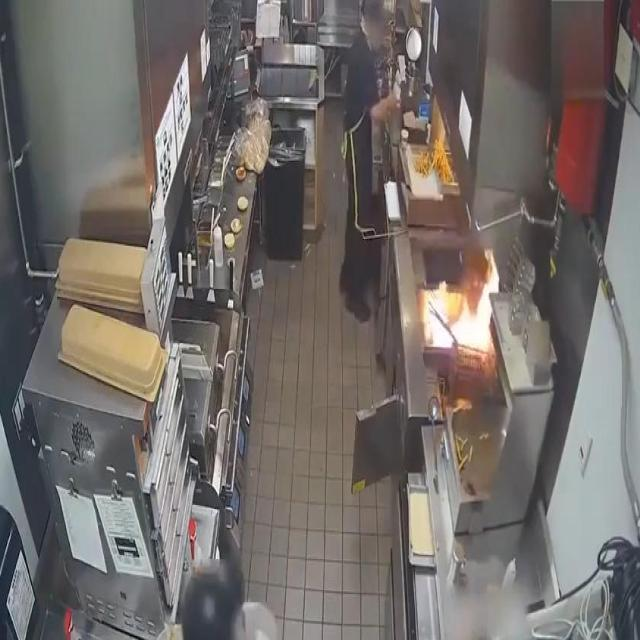smoke: (424, 247, 506, 363)
